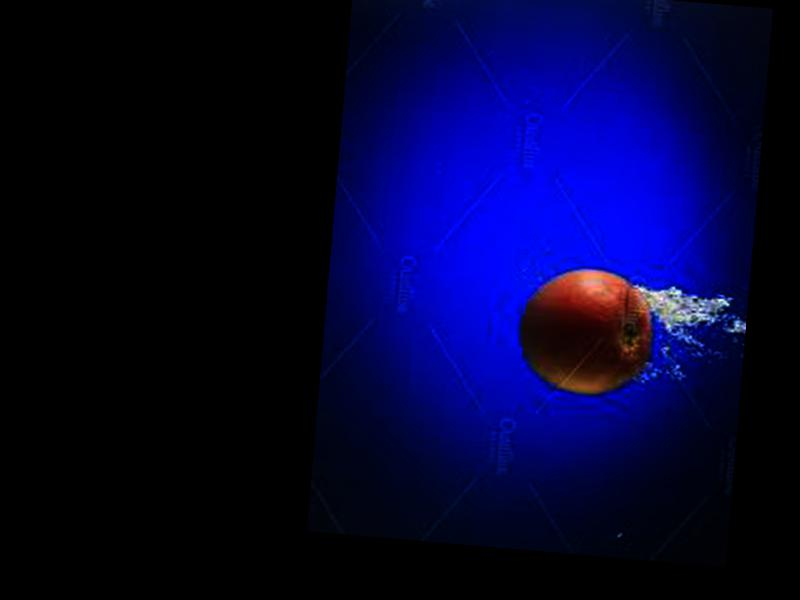Tomato: (519, 264, 657, 401)
